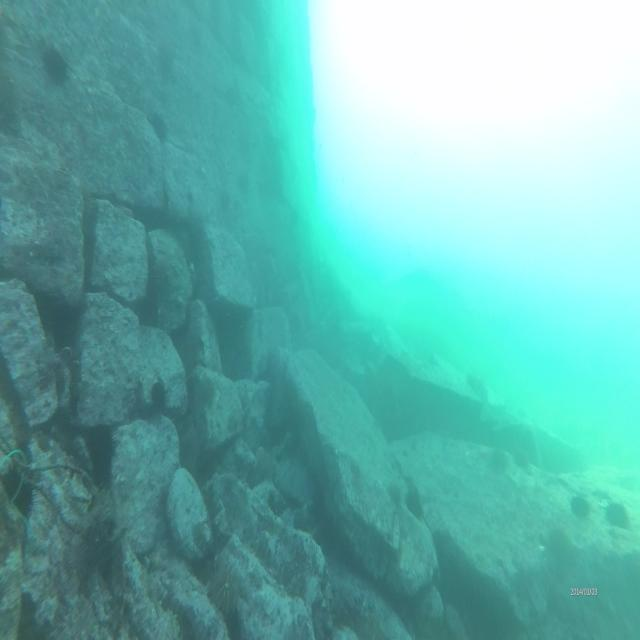echinus: (39, 37, 71, 84), (605, 497, 635, 534), (570, 487, 593, 525)
